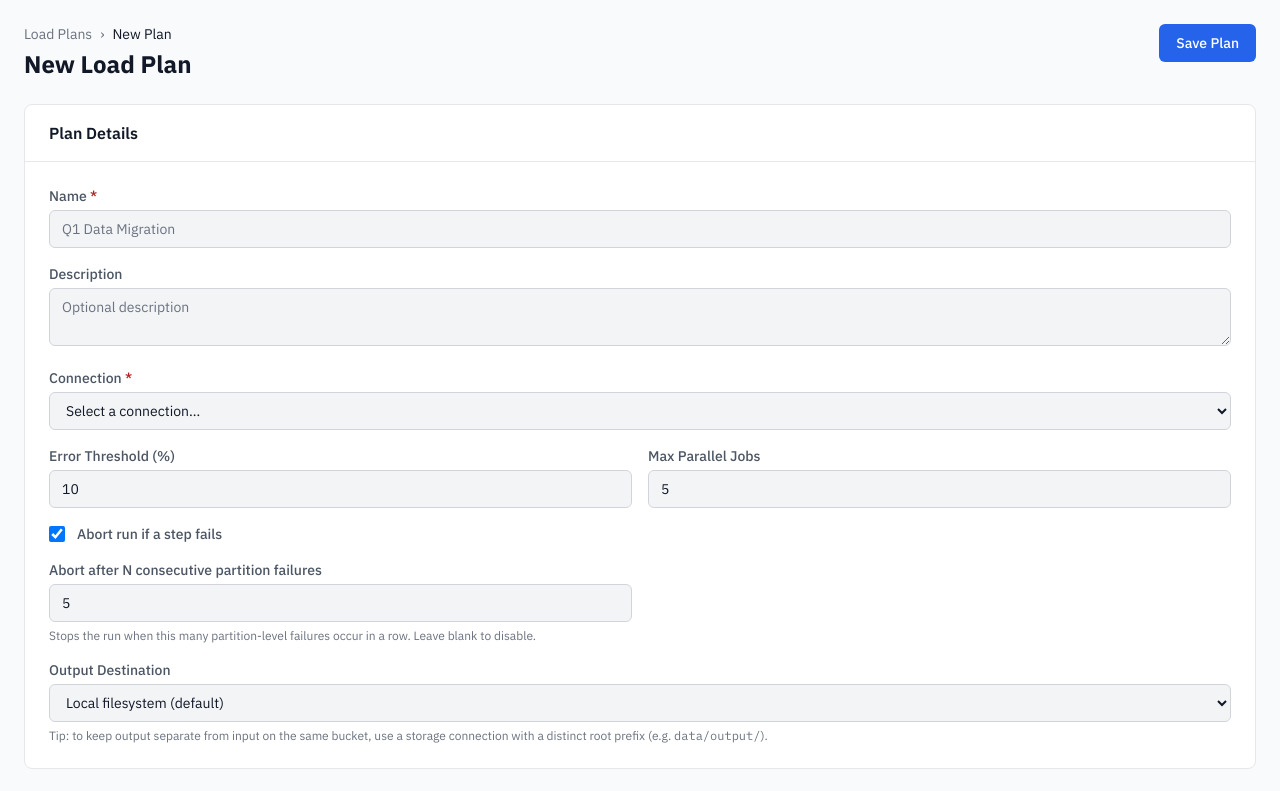
PlanEditor › displays validation errors from API on create
The width and height of the screenshot is (1280, 791).
Click the button "Save Plan".
click(1208, 43)  # box [1159,24,1256,62]
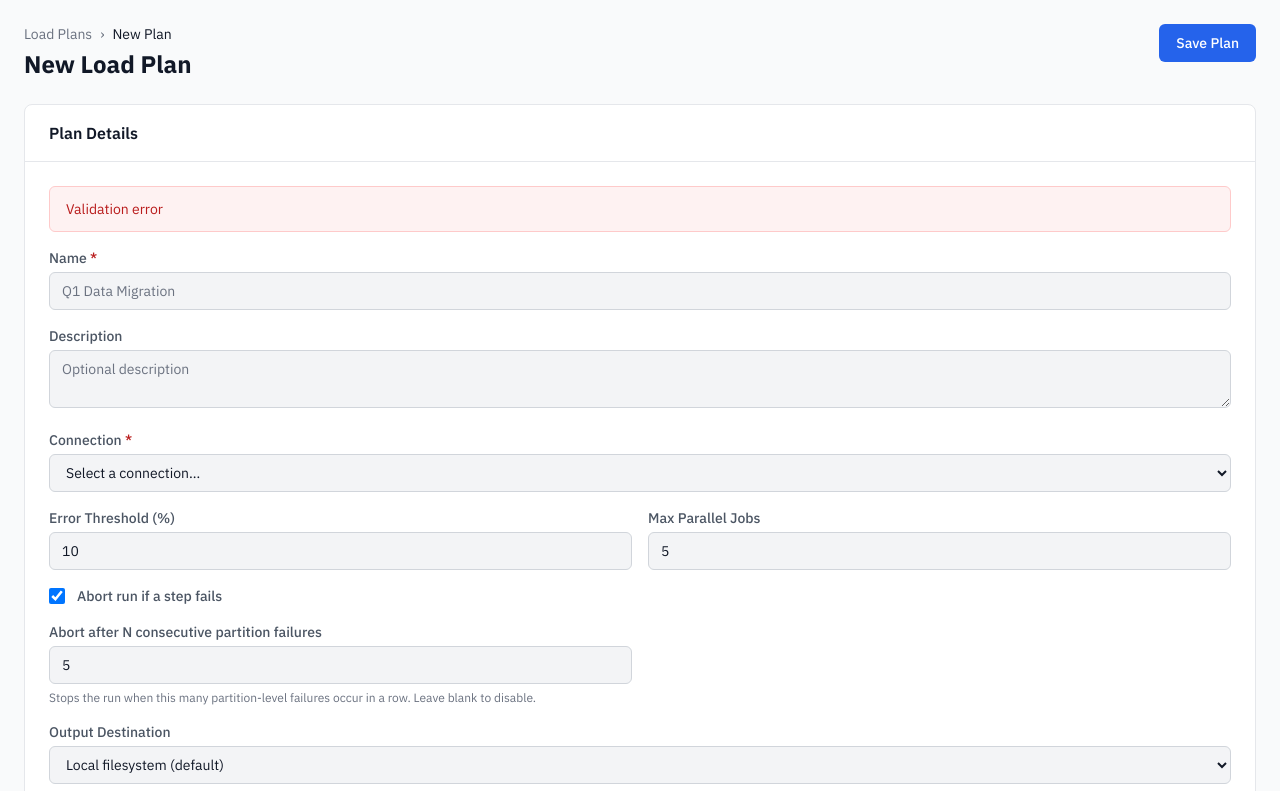
Expected: the message "Validation error" is shown, [49,186,1231,232]
